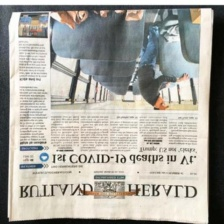news_paper: (3, 6, 215, 224)
